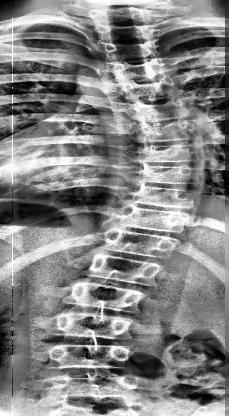Vertebrae: (40, 372, 139, 402), (107, 226, 181, 264), (69, 281, 147, 317), (49, 338, 131, 372), (51, 308, 137, 340), (91, 252, 161, 288), (120, 202, 190, 238), (134, 184, 205, 218), (138, 163, 208, 191), (142, 141, 206, 165), (121, 78, 183, 102), (103, 40, 165, 64), (92, 4, 148, 30), (134, 98, 188, 124), (107, 55, 168, 77), (142, 123, 202, 145), (99, 23, 158, 43)
